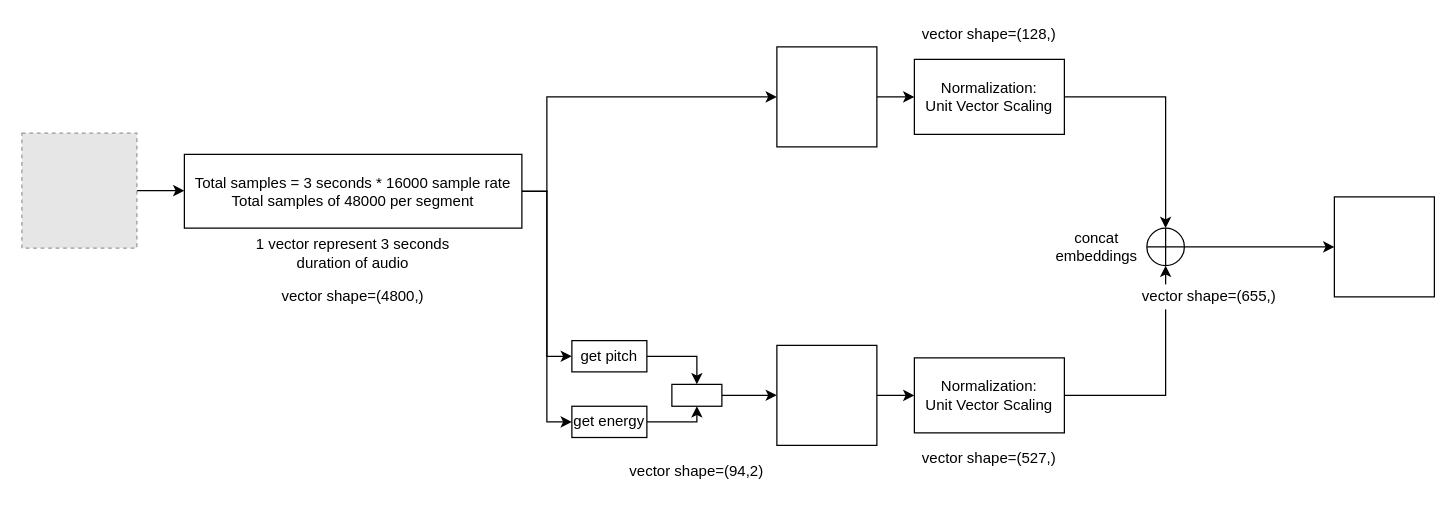
This 1456x505 diagram has some shape labels left out. Grey dashed boxes stand in for pictures. The shapes that lost their labels are listed below. From the top down, each one's box as (x1, y1, x2, y2) in pixels, then its label:
(776, 46, 877, 147): Audio Spectogram Transformer (AST)
(1333, 196, 1434, 297): Inference trained random forest classifier
(671, 383, 722, 406): stack
(776, 344, 877, 445): Inference contrastive-trained RNN
